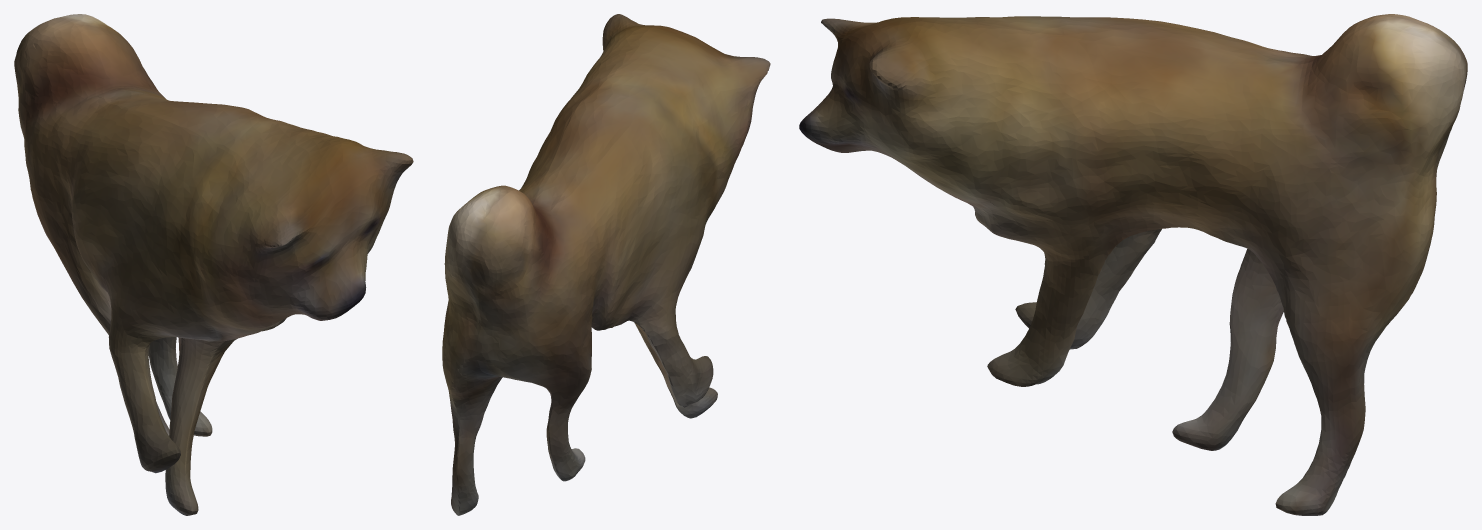
Rendered from shiba-haru-1002-mesh-00006.obj.
3 views of the same model, side by side, from view 1: azimuth 30°, elevation 25°; view 2: azimuth 150°, elevation 25°; view 3: azimuth 270°, elevation 25° (orthographic). The views are drawn at different scales.
Bounding box in the file's own units: 0.0354 × 0.0756 × 0.0964.
